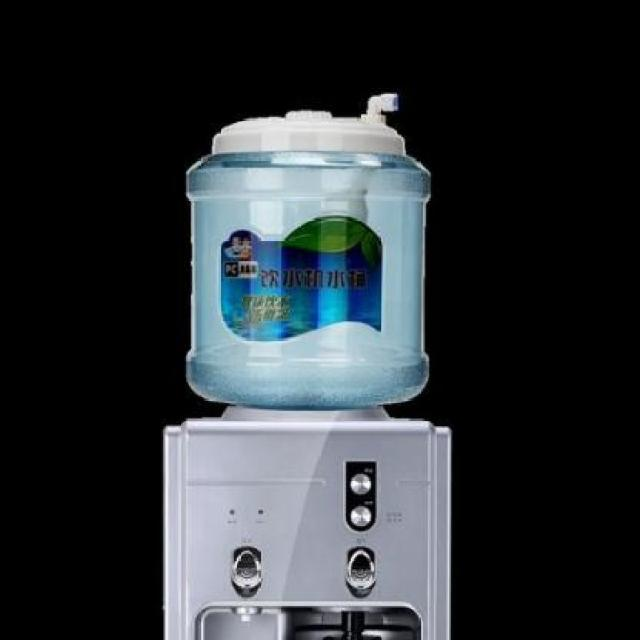coolerbottle: (180, 140, 441, 412)
